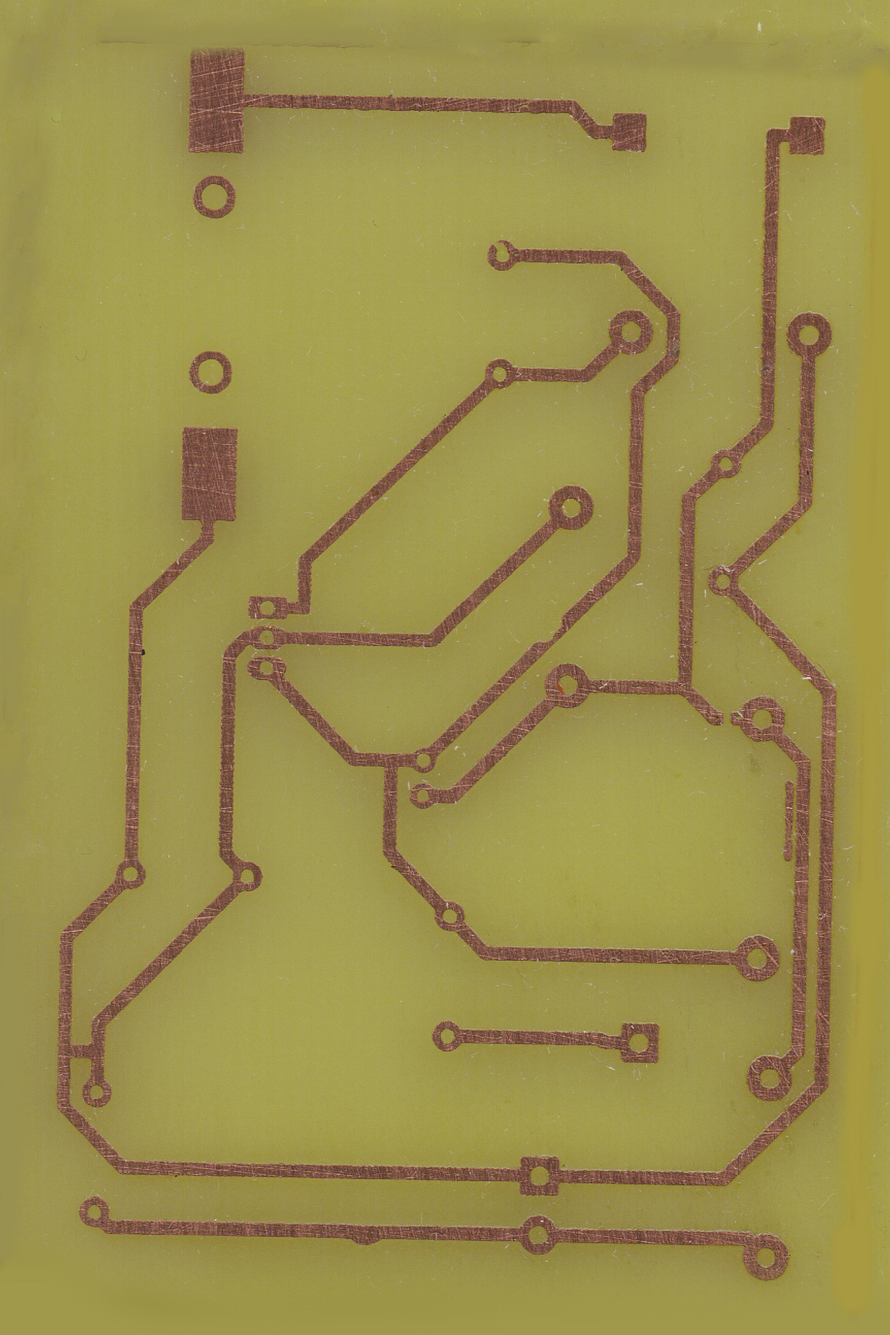missing_hole: (484, 235, 519, 276)
mouse_bite: (532, 606, 572, 648)
open_circuit: (713, 704, 737, 738)
short: (53, 1037, 109, 1065)
spur: (341, 1219, 390, 1251)
spurious_copper: (781, 779, 796, 865)
